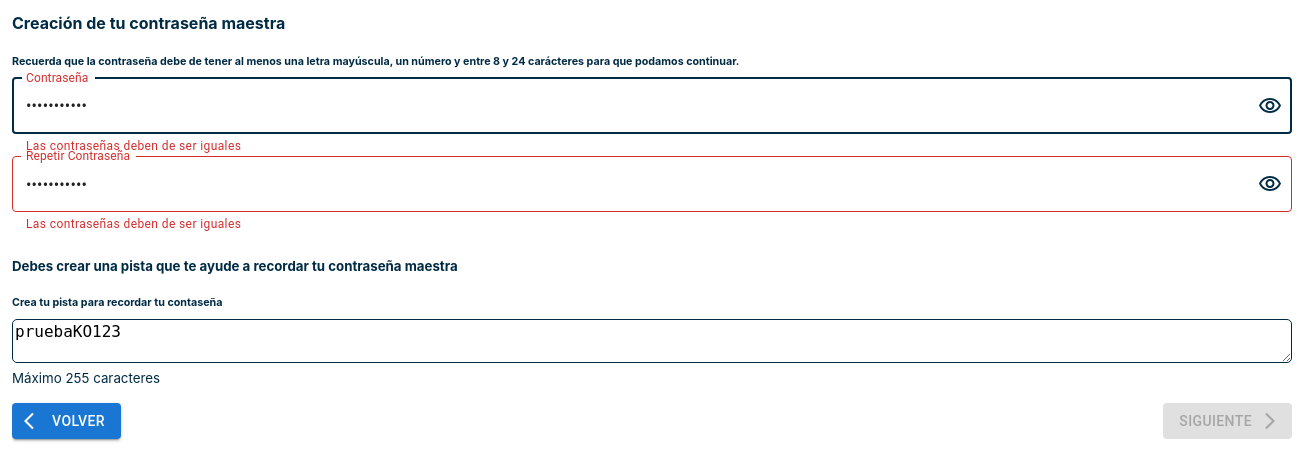
Test case: render form component › type a character on input value hide the error message pass are not equals
Step 1. Type "pruebaKO4567" into the password field labelled "Repetir Contraseña" → (627, 184), box [12,156,1242,212]
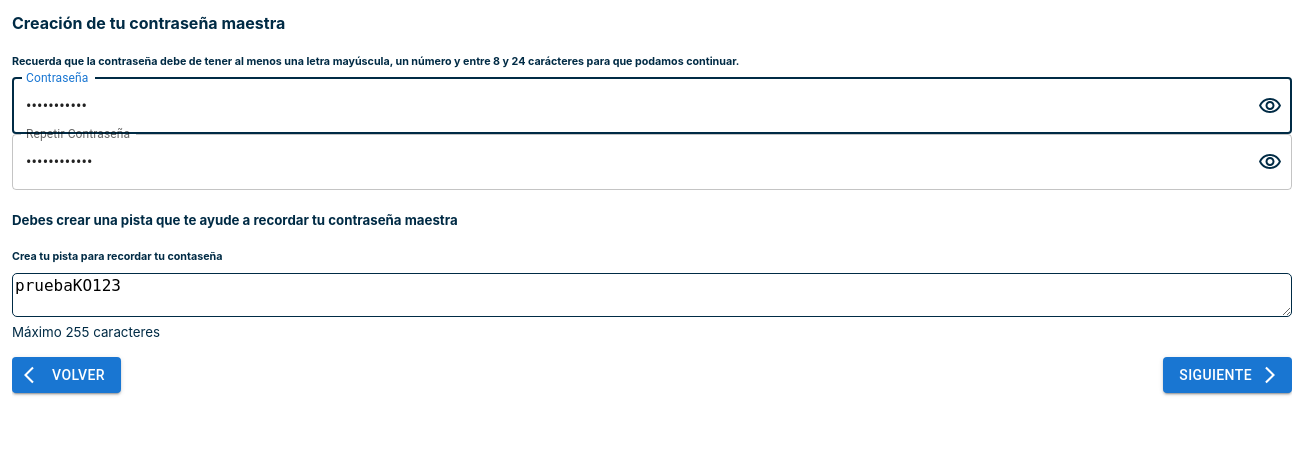
Expected: the text "Las contraseñas deben de ser iguales" is gone
